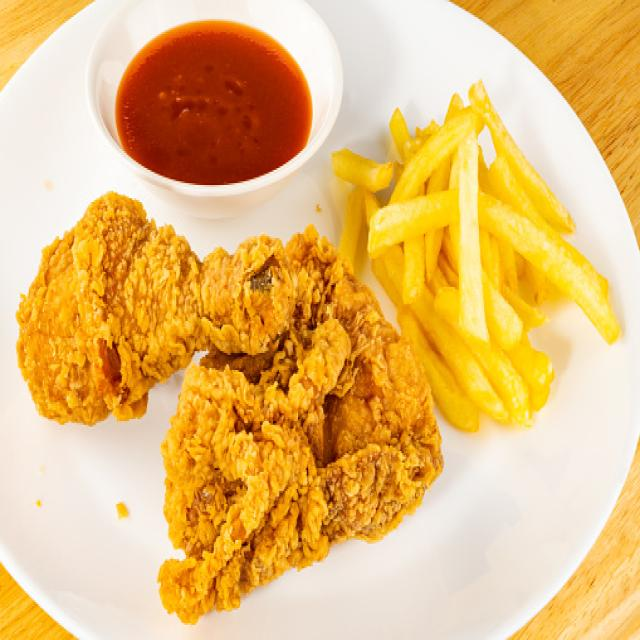carb: (334, 82, 621, 432)
meat: (17, 192, 444, 623)
